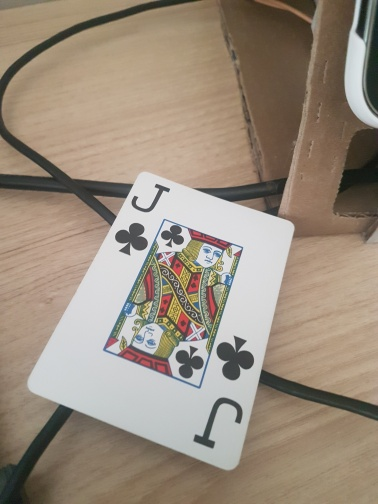jack: (29, 170, 292, 471)
